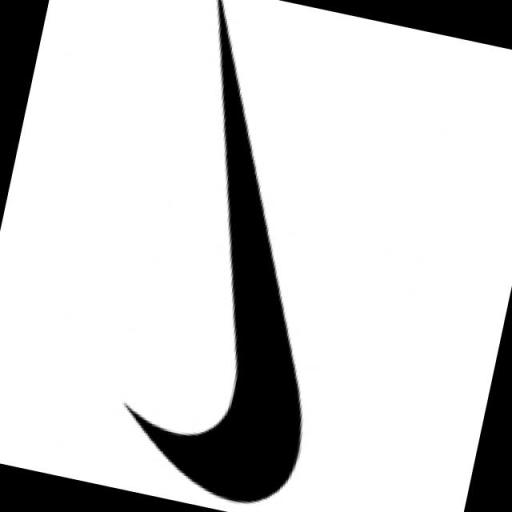Nike: (108, 0, 386, 511)
